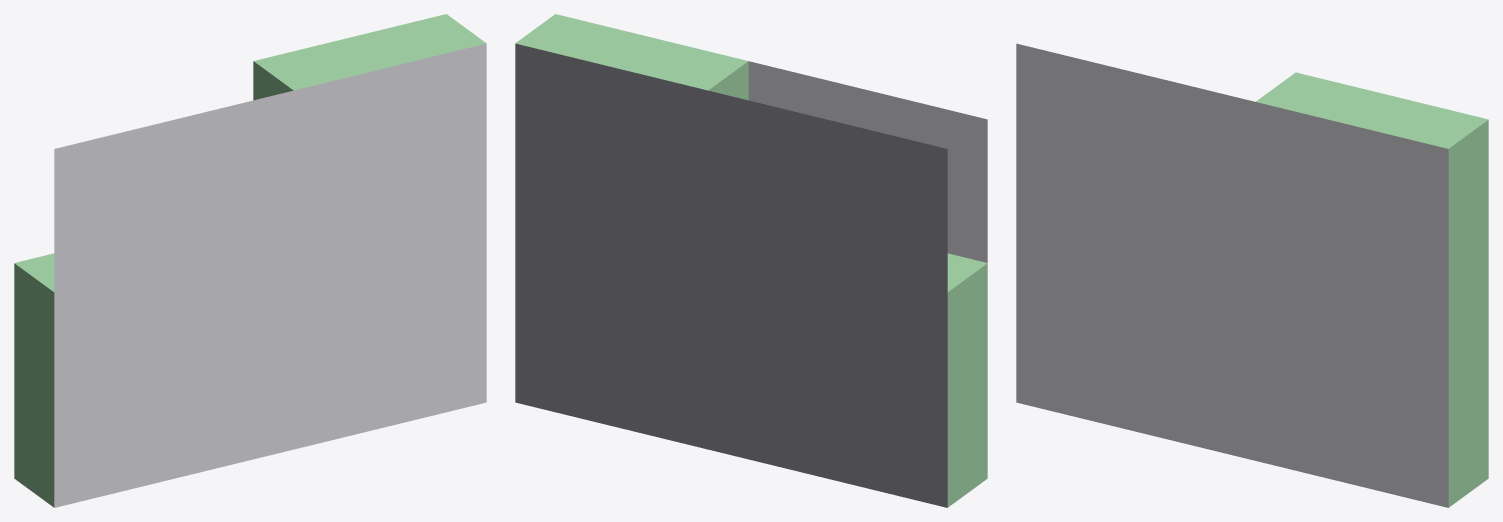
The model's file is unidentified_office_block.glb.
3 renders of one model, left to right at view 1: azimuth 30°, elevation 25°; view 2: azimuth 150°, elevation 25°; view 3: azimuth 330°, elevation 25°, orthographic.
Visible parts, largest first — view 1: ceiling_mesh_0, room_unidentified_office_block_ground_floor_room_FACULTY OFF, room_unidentified_office_block_ground_floor_room_CASHIER; view 2: floor_mesh_0, ceiling_mesh_0, room_unidentified_office_block_ground_floor_room_FACULTY OFF, room_unidentified_office_block_ground_floor_room_CASHIER; view 3: ceiling_mesh_0, room_unidentified_office_block_ground_floor_room_CASHIER, room_unidentified_office_block_ground_floor_room_OFFICE.
Part boxes in pixels (x1,y1,x2,y2): ceiling_mesh_0: (54, 43, 486, 507); room_unidentified_office_block_ground_floor_room_FACULTY OFF: (14, 253, 54, 507); room_unidentified_office_block_ground_floor_room_CASHIER: (253, 14, 486, 100); floor_mesh_0: (515, 43, 947, 507); ceiling_mesh_0: (748, 61, 987, 262); room_unidentified_office_block_ground_floor_room_FACULTY OFF: (947, 253, 987, 507); room_unidentified_office_block_ground_floor_room_CASHIER: (515, 14, 748, 100); ceiling_mesh_0: (1016, 43, 1448, 507); room_unidentified_office_block_ground_floor_room_CASHIER: (1256, 72, 1488, 291); room_unidentified_office_block_ground_floor_room_OFFICE: (1448, 263, 1488, 507).
Size of the model in its own units: 21.69 by 17.21 by 3.5.
